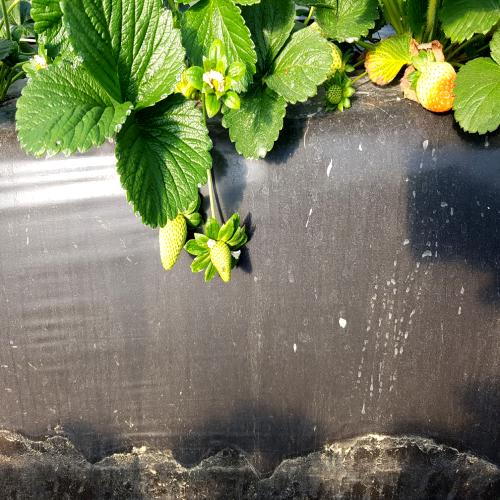unripe: (157, 206, 188, 273), (206, 235, 236, 294)
